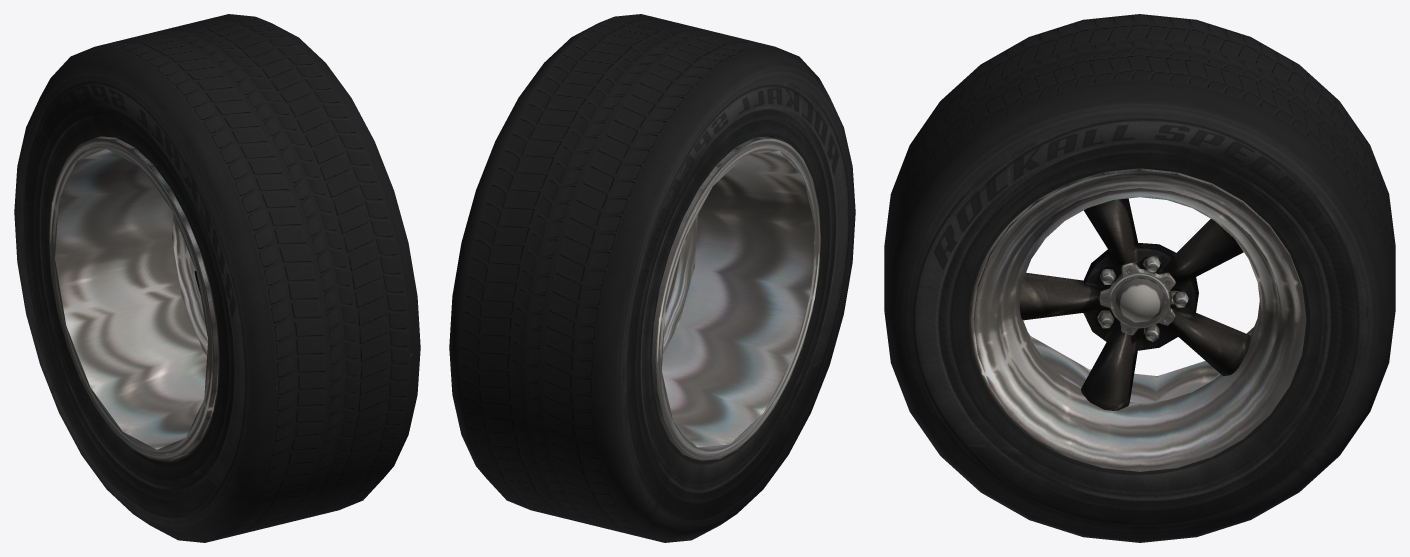
Rendered from wheel-base-1.glb.
The picture shows the model from 3 angles, left to right: view 1: azimuth 30°, elevation 25°; view 2: azimuth 150°, elevation 25°; view 3: azimuth 270°, elevation 25°; orthographic projection.
Parts seen in each view (by area): view 1: Wheel_FL; view 2: Wheel_FL; view 3: Wheel_FL.
Part boxes in pixels (bbox=[...]): Wheel_FL: bbox=[14, 14, 420, 542]; Wheel_FL: bbox=[449, 14, 855, 542]; Wheel_FL: bbox=[884, 14, 1395, 542].
Bounding box in the file's own units: 0.2542 × 0.6422 × 0.6422.
Materials: 1 (1 with a texture image).
